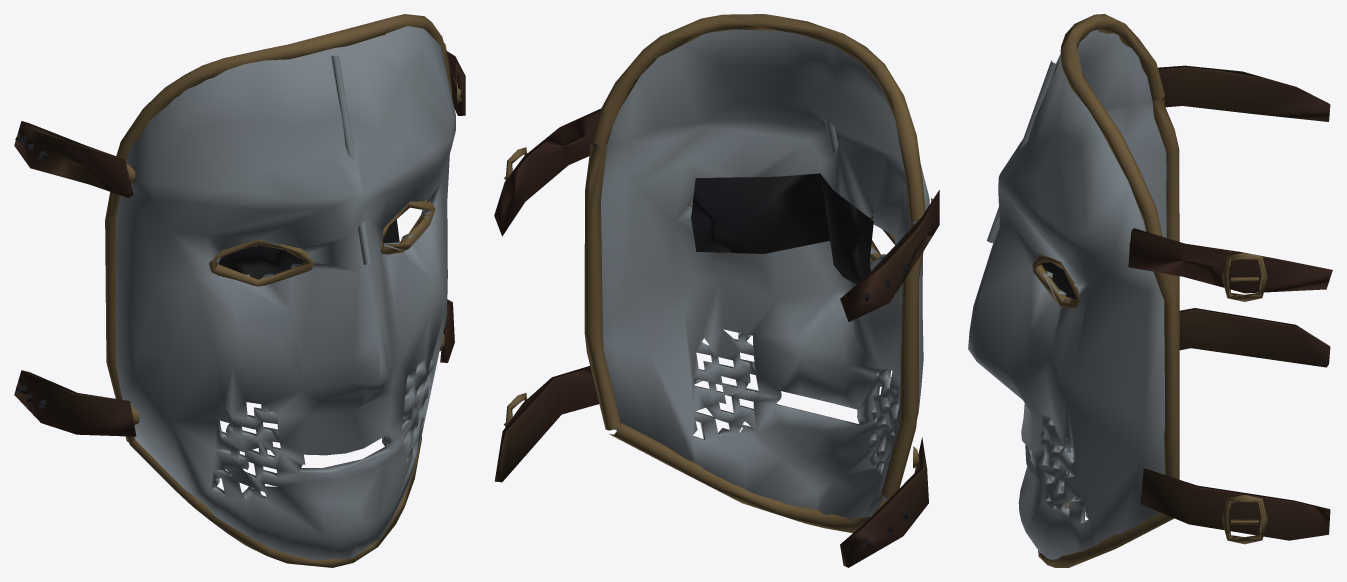
3 views of the same model, side by side, from view 1: azimuth 30°, elevation 25°; view 2: azimuth 150°, elevation 25°; view 3: azimuth 270°, elevation 25° (orthographic). The views are drawn at different scales.
Visible parts, largest first — view 1: hammered plate, recess and lining; view 2: hammered plate, recess and lining; view 3: hammered plate, recess and lining.
Part boxes in pixels (box(x1,y1,x2,y2)): hammered plate: box(105, 14, 461, 567); recess and lining: box(14, 50, 465, 436); hammered plate: box(504, 14, 932, 533); recess and lining: box(494, 108, 939, 567); hammered plate: box(968, 14, 1267, 567); recess and lining: box(1041, 65, 1332, 540).
Bounding box in the file's own units: 0.1781 × 0.2191 × 0.1433.
